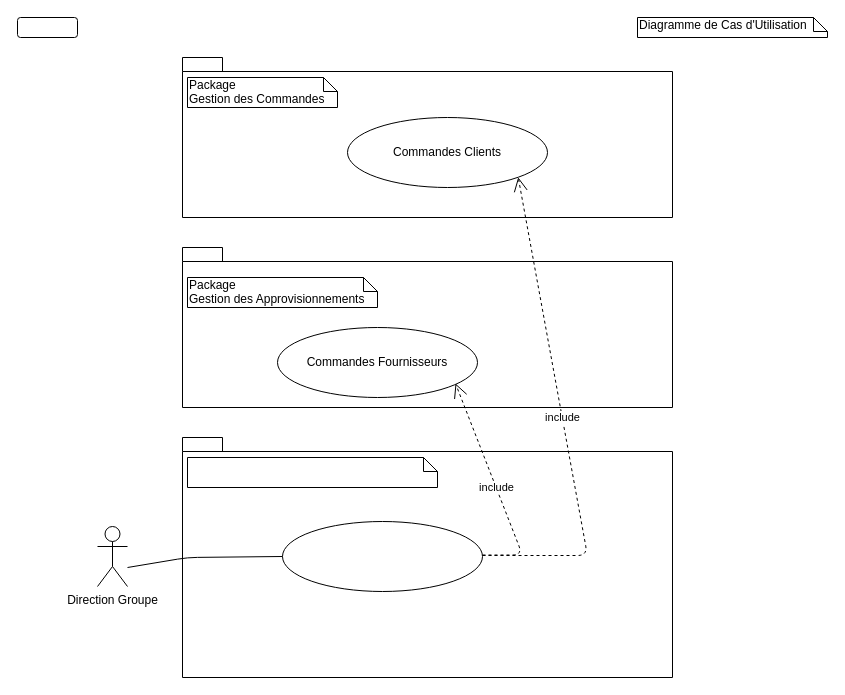
Image size: 845x695. Some labels were removed from this diagram. Each missing label, with the box of its shape:
Edition Statistiques: (282, 520, 482, 592)
OC'Pizza: (16, 16, 78, 38)
Package Gestion des Statistiques: (186, 456, 438, 488)
